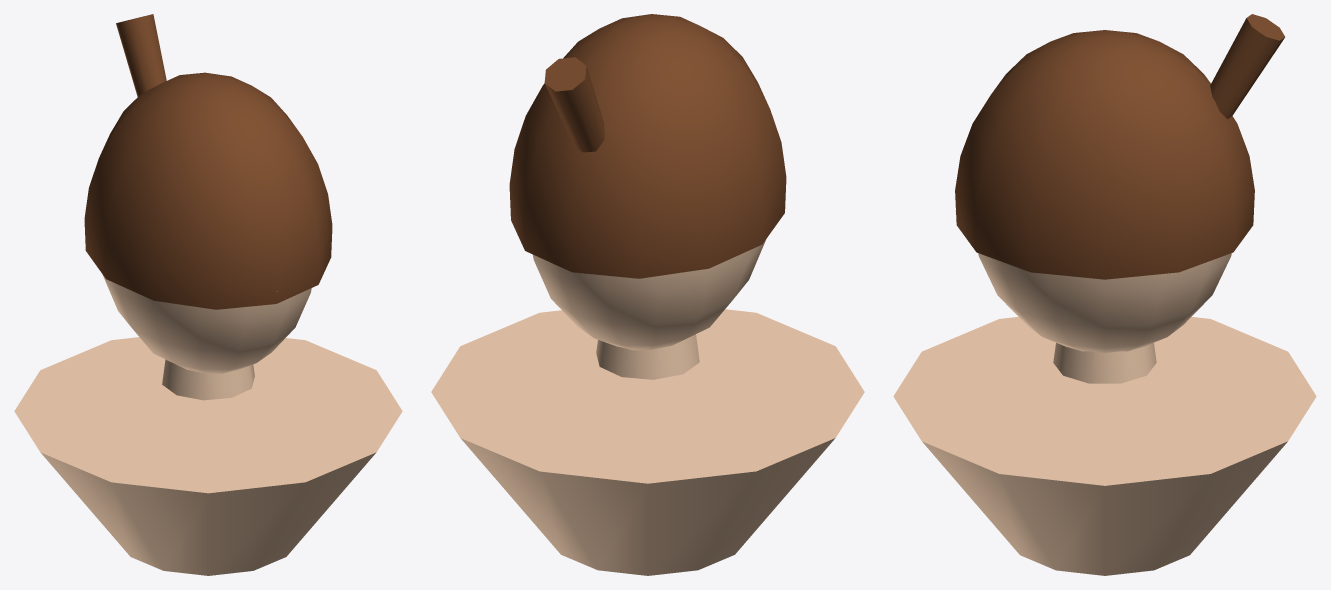
File: portrait16w_002.glb
3 views of the same model, side by side, from view 1: azimuth 30°, elevation 25°; view 2: azimuth 150°, elevation 25°; view 3: azimuth 270°, elevation 25° (orthographic). The views are drawn at different scales.
Bounding box in the file's own units: 1.72 × 2.32 × 1.72.
